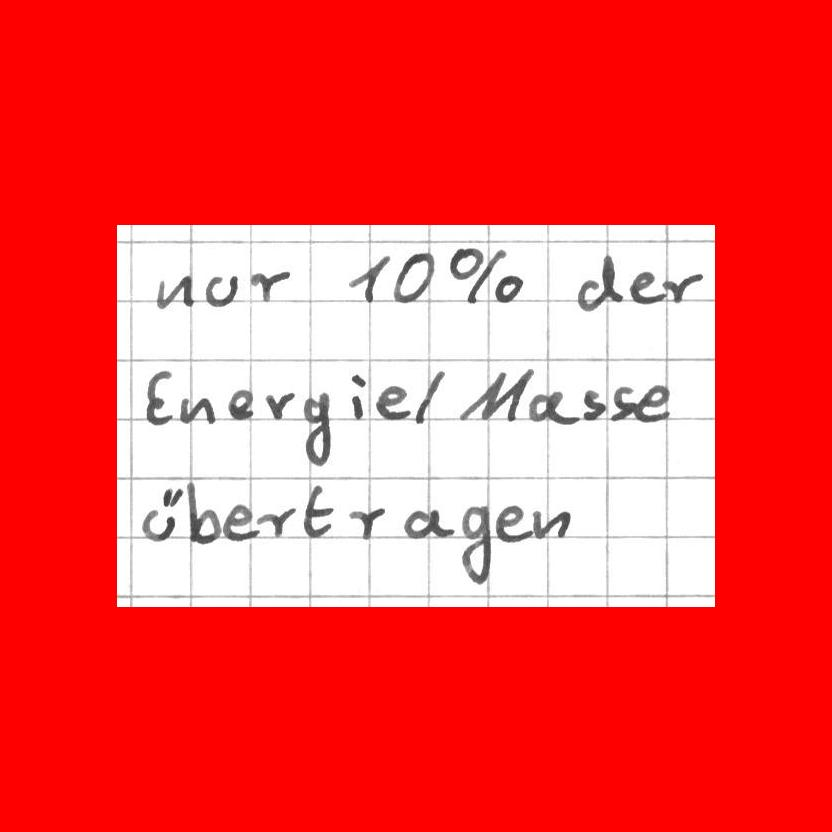Char: (456, 365, 535, 423), (571, 248, 629, 314), (459, 503, 493, 585), (138, 483, 185, 542), (300, 388, 335, 467), (185, 477, 222, 546), (392, 246, 435, 305), (345, 252, 392, 305), (465, 245, 505, 305), (525, 388, 579, 428), (301, 482, 336, 540), (412, 366, 445, 426), (402, 507, 454, 543), (142, 367, 174, 424), (155, 270, 197, 311), (220, 502, 259, 546), (347, 503, 389, 542), (659, 268, 707, 302), (527, 506, 572, 542), (626, 266, 666, 306), (249, 266, 291, 304), (373, 382, 413, 420), (255, 503, 297, 538), (495, 504, 532, 543), (204, 272, 241, 310), (636, 383, 671, 422), (492, 267, 526, 306), (445, 244, 483, 278), (178, 394, 218, 426), (260, 387, 296, 421), (348, 370, 371, 423), (609, 382, 638, 423), (225, 386, 258, 421), (582, 388, 606, 420)
